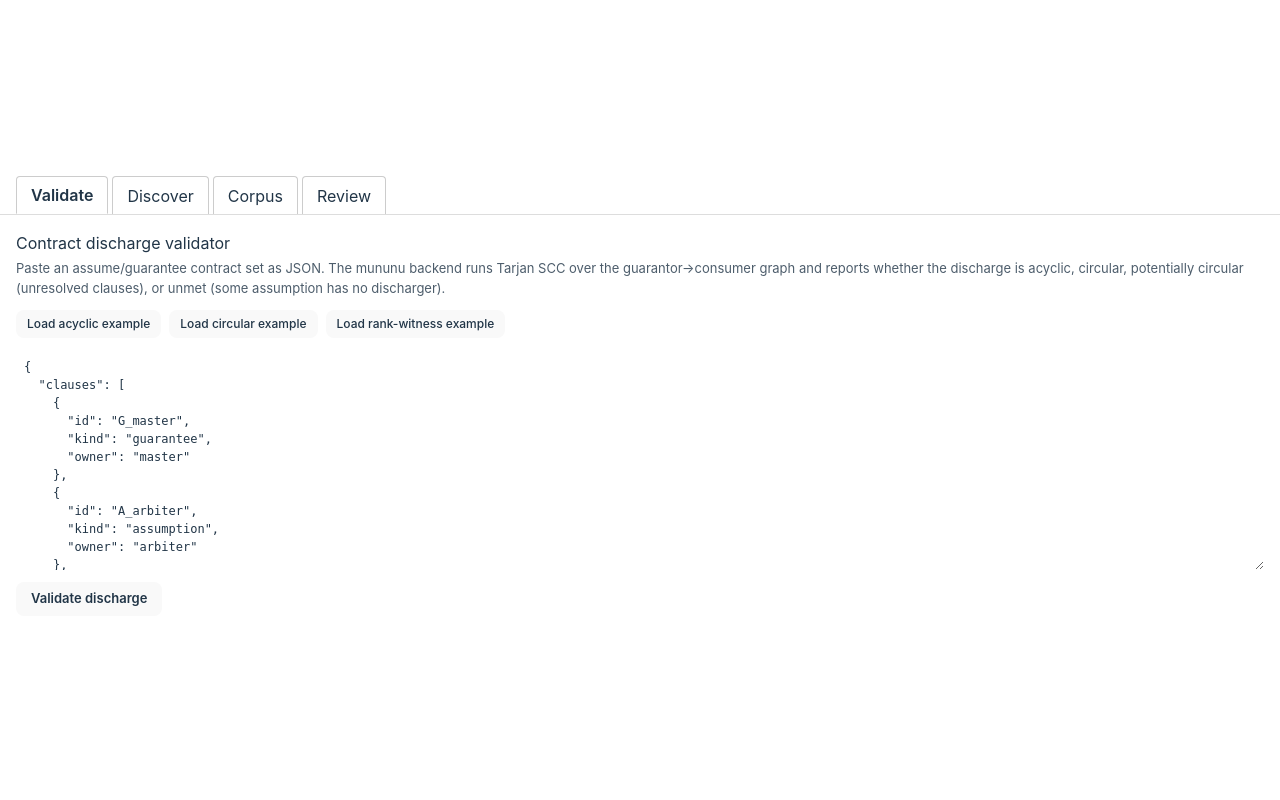
Test case: ContractPanel › renders Discover sub-panel with corpus input when selected
Click the button "Discover": (161, 195) [112,176,209,214]
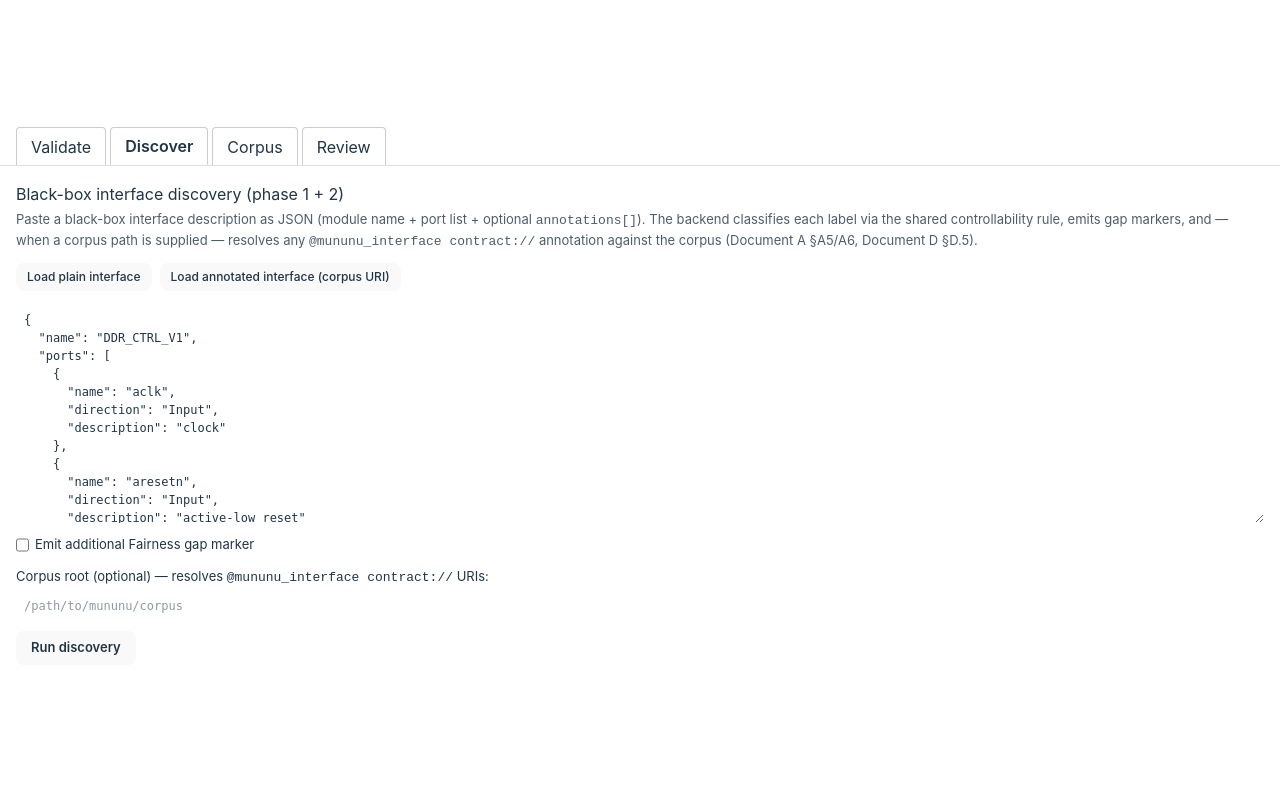
Check: the heading "Black-box interface discovery (phase 1 + 2)" is shown, box [16,184,344,204]
Check: the field with placeholder "/path/to/mununu/corpus" is shown, box [16,593,1264,619]
